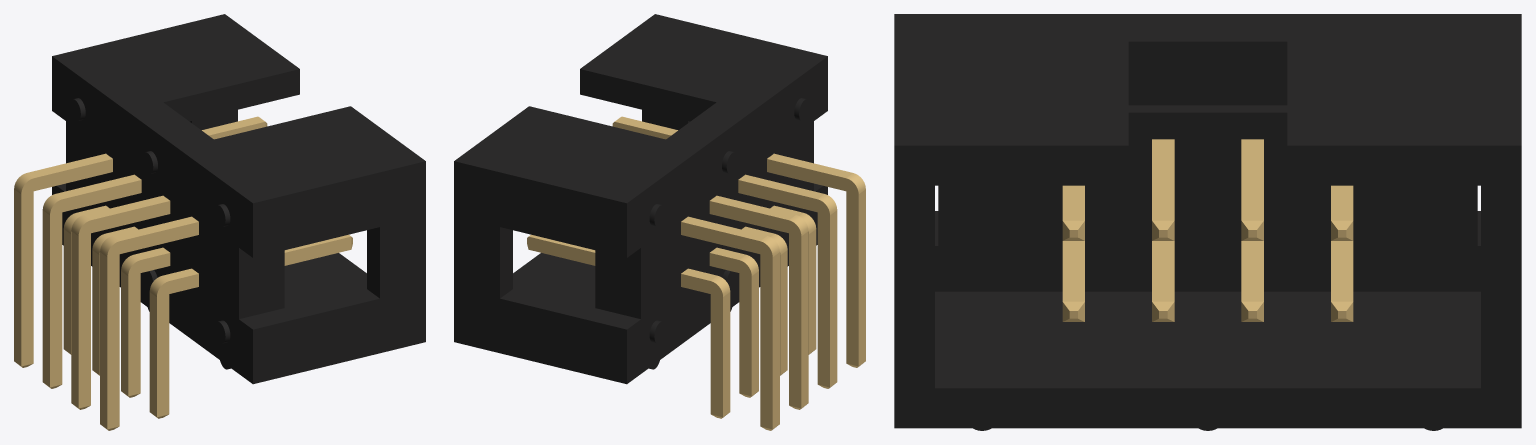
File: kc-idc-header_2x04_p2.54mm_horizontal.glb
The picture shows the model from 3 angles, left to right: view 1: azimuth 30°, elevation 25°; view 2: azimuth 150°, elevation 25°; view 3: azimuth 270°, elevation 25°; orthographic projection. The views are drawn at different scales.
Visible parts, largest first — view 1: 0_0_0_0, 0.75_0.5_0.25_0.9; view 2: 0_0_0_0, 0.75_0.5_0.25_0.9; view 3: 0_0_0_0, 0.75_0.5_0.25_0.9.
Part boxes in pixels (x1,y1,x2,y2): 0_0_0_0: (52, 14, 425, 384); 0.75_0.5_0.25_0.9: (14, 116, 352, 430); 0_0_0_0: (454, 14, 827, 384); 0.75_0.5_0.25_0.9: (527, 116, 865, 430); 0_0_0_0: (894, 14, 1521, 430); 0.75_0.5_0.25_0.9: (1062, 139, 1353, 321).
Size of the model in its own units: 1.36 by 1.21 by 1.78.
